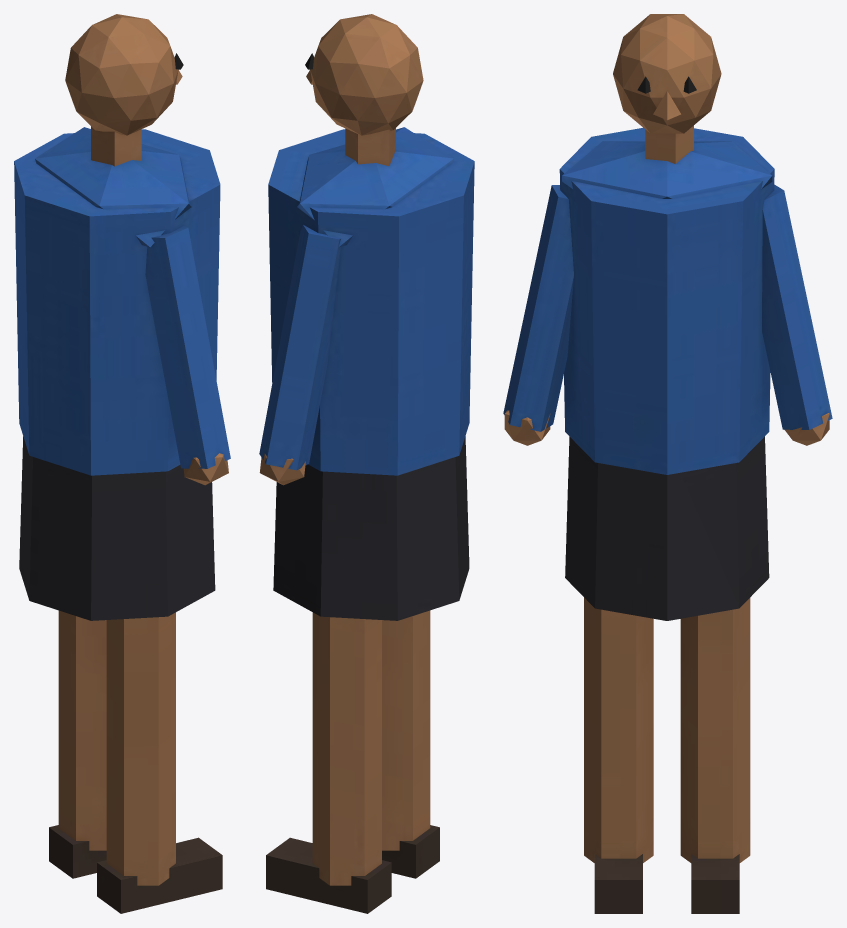
Rendered from barn_2_tex.glb.
The picture shows the model from 3 angles, left to right: view 1: azimuth 30°, elevation 25°; view 2: azimuth 150°, elevation 25°; view 3: azimuth 270°, elevation 25°; orthographic projection.
Parts seen in each view (by area): view 1: barn_2; view 2: barn_2; view 3: barn_2.
Boxes of the visible parts, bbox=[...] form: barn_2: bbox=[14, 14, 230, 913]; barn_2: bbox=[259, 14, 474, 913]; barn_2: bbox=[503, 14, 832, 913].
Bounding box in the file's own units: 0.2857 × 1.27 × 0.4377.
5 materials, 4 textured.
